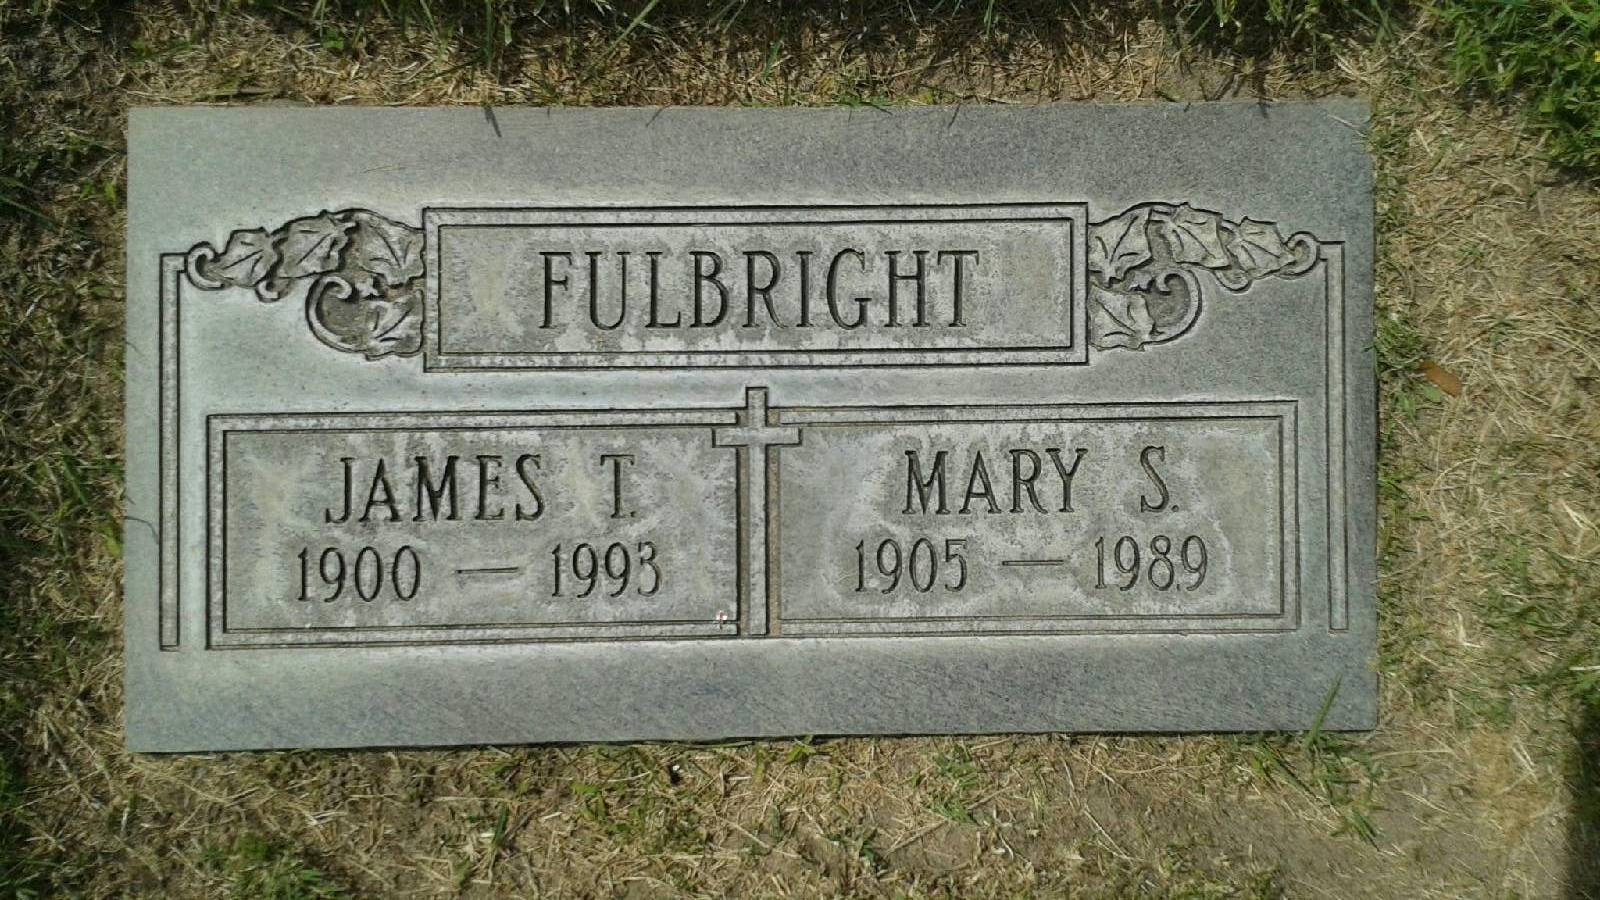flat: (107, 86, 1405, 773)
